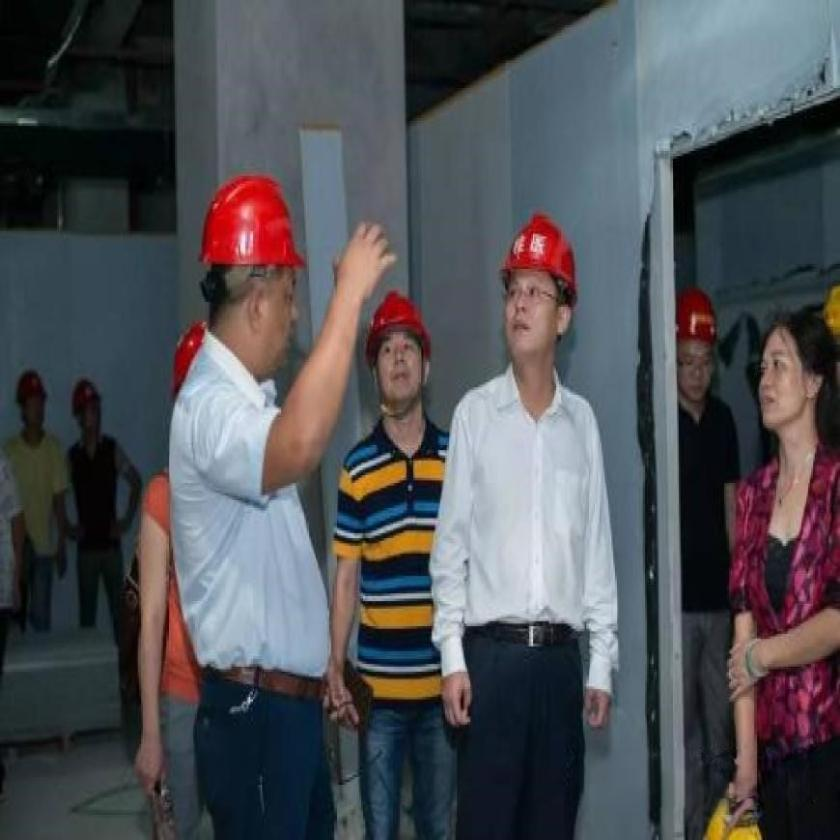Con_casco: (206, 166, 308, 356), (499, 190, 589, 388), (362, 292, 440, 414), (671, 286, 726, 416)
Sin_casco: (753, 312, 827, 434)
